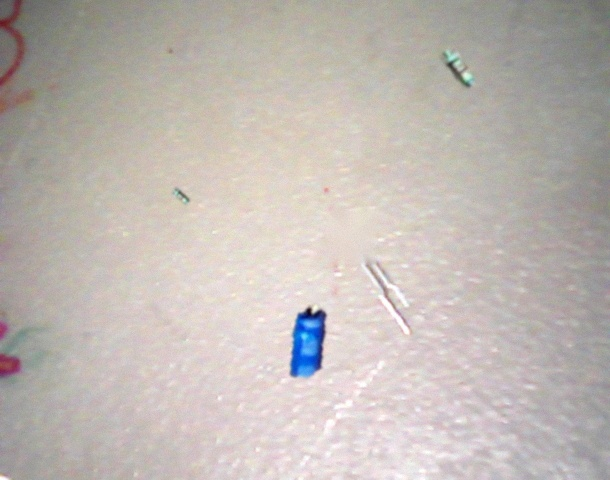capacitor: (290, 303, 327, 378)
resistor: (439, 46, 478, 91), (172, 187, 191, 205)
